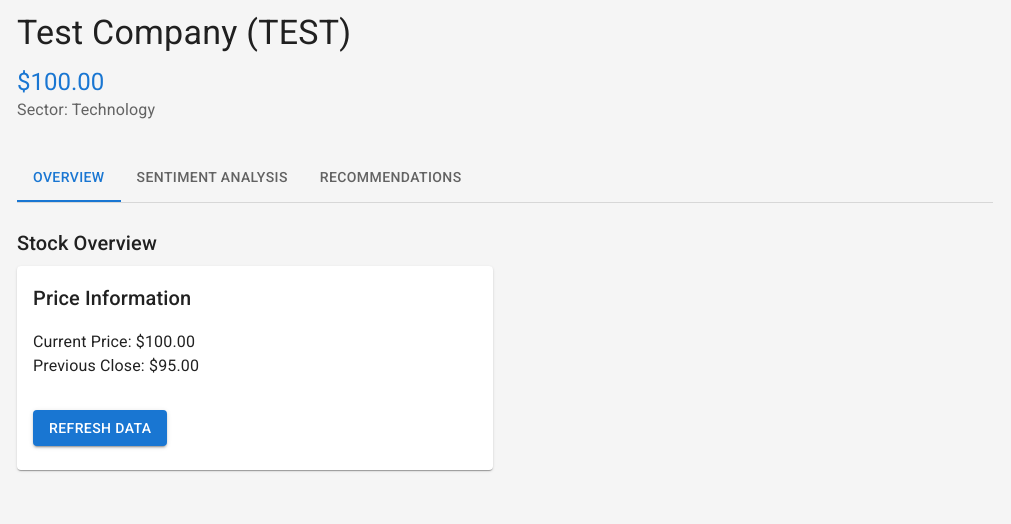
StockDetails Component › loads sentiment data and displays sentiment tab
Click the tab "Sentiment Analysis" at (212, 178), box [121,154,304,202]
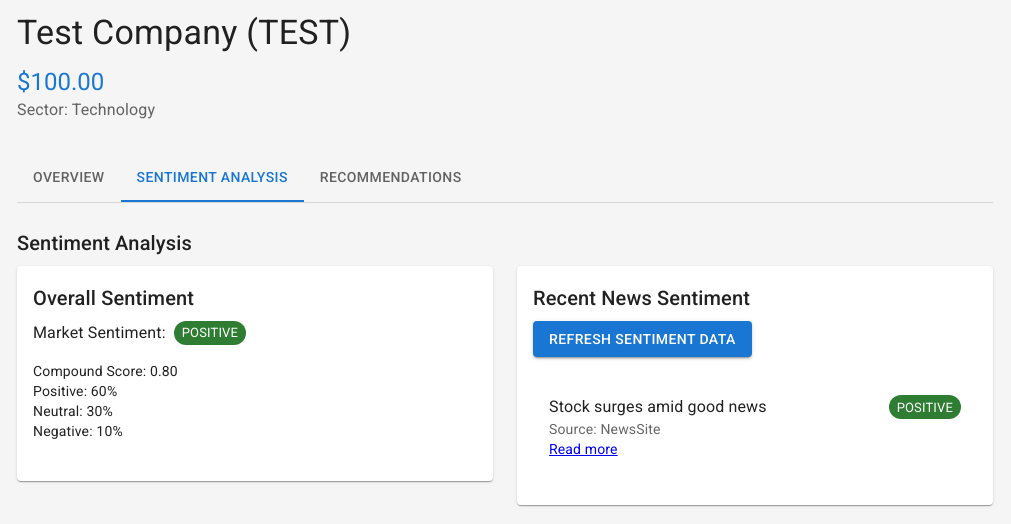
expect the heading "Overall Sentiment" is shown: met, box [33,286,194,310]
expect the heading "Recent News Sentiment" is shown: met, box [533,286,750,310]
expect the text "Stock surges amid good news" is shown: met, box [549,395,767,419]
